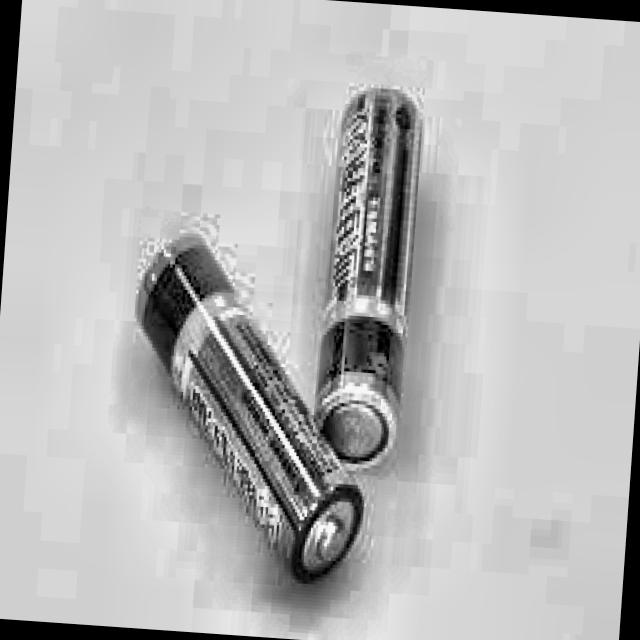Battery: (116, 229, 379, 586), (308, 85, 422, 463)
